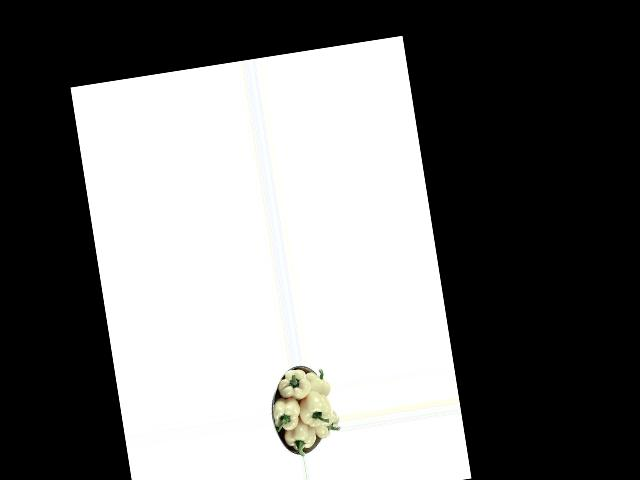bell_pepper: (309, 409, 341, 442)
